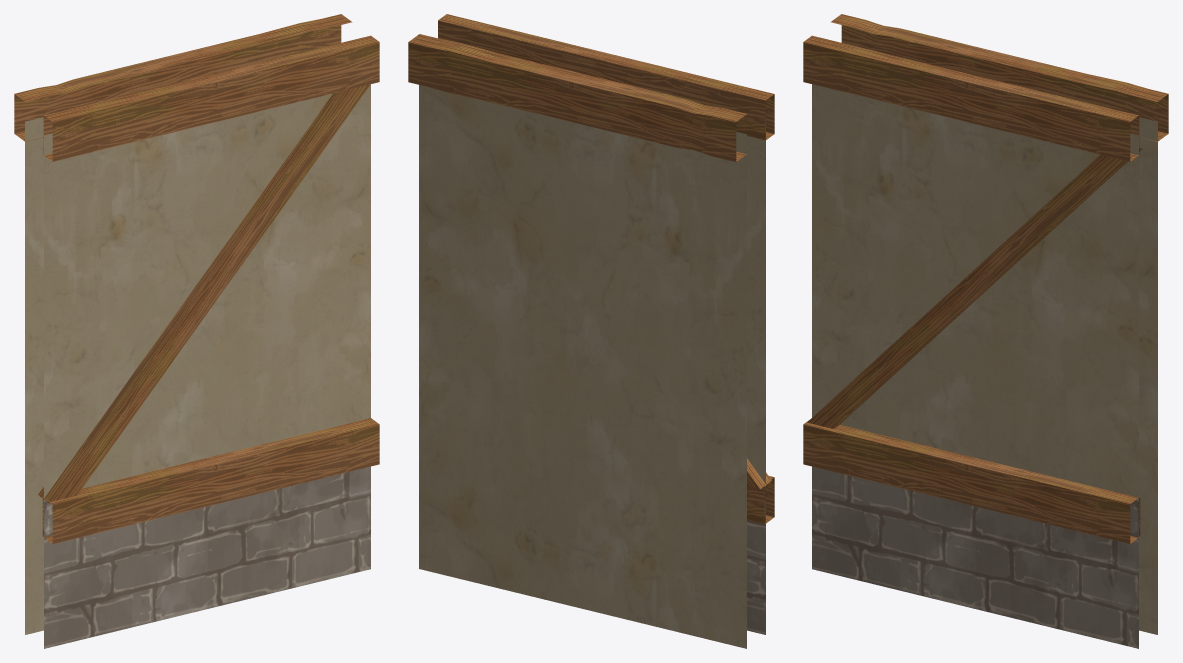
The model's file is Wall_Plaster_Straight_R.gltf.
3 views of the same model, side by side, from view 1: azimuth 30°, elevation 25°; view 2: azimuth 150°, elevation 25°; view 3: azimuth 330°, elevation 25° (orthographic).
Visible parts, largest first — view 1: Wall_Plaster_Straight_R; view 2: Wall_Plaster_Straight_R; view 3: Wall_Plaster_Straight_R.
Boxes of the visible parts, x1=… form: Wall_Plaster_Straight_R: x1=14, y1=14, x2=379, y2=648; Wall_Plaster_Straight_R: x1=408, y1=14, x2=774, y2=648; Wall_Plaster_Straight_R: x1=803, y1=14, x2=1168, y2=648.
Bounding box in the file's own units: 2 × 3.12 × 0.4065.
3 materials, 3 textured.
